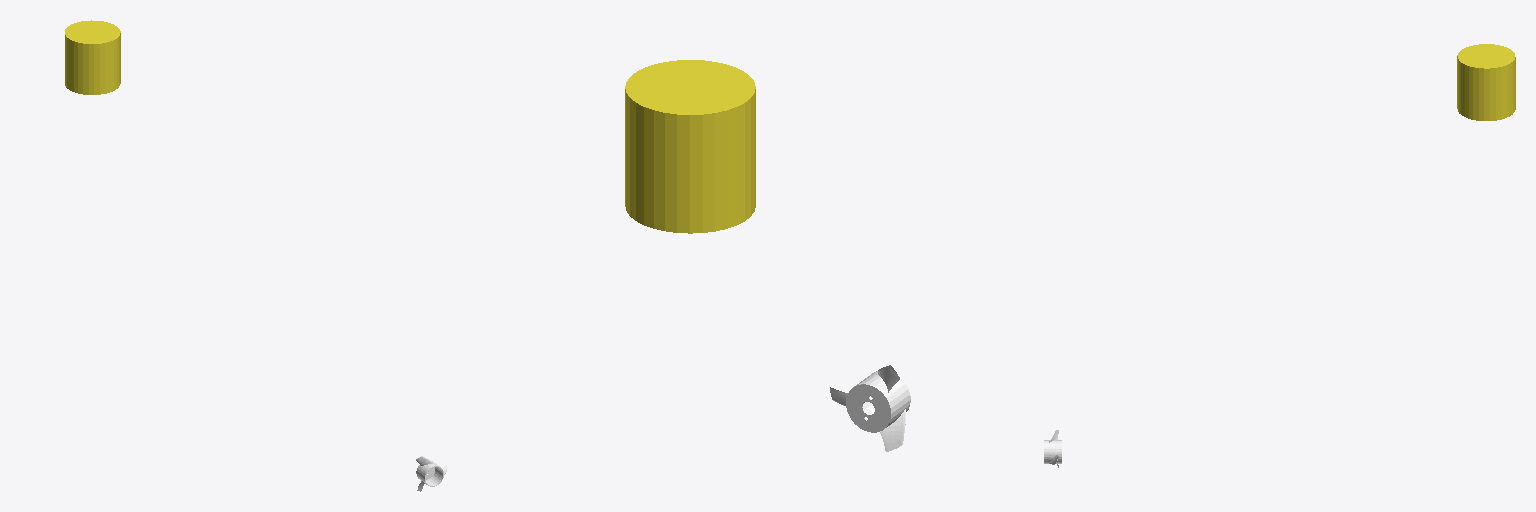
URDF robot description (ASV_CATAM_URDF_ASSEMBLY):
<?xml version="1.0" encoding="utf-8"?>
<!-- This URDF was automatically created by SolidWorks to URDF Exporter! Originally created by [author] ([email redacted]) 
     Commit Version: 1.5.1-0-g916b5db  Build Version: 1.5.7152.31018
     For more information, please see http://wiki.ros.org/sw_urdf_exporter -->
<robot
  name="ASV_CATAM_URDF_ASSEMBLY">
  <link
    name="base_link">
    <inertial>
      <origin
        xyz="0.0080176 -0.14033 0.027517"
        rpy="0 0 0" />
      <mass
        value="10" />
      <inertia
        ixx="3.3342"
        ixy="-7.2171E-06"
        ixz="1.1079E-05"
        iyy="3.4591"
        iyz="-0.044946"
        izz="0.43184" />
    </inertial>
    <visual>
      <origin
        xyz="0 0 0"
        rpy="0 0 0" />
      <geometry>
        <mesh
          filename="package://ASV_CATAM_URDF_ASSEMBLY/meshes/base_link.STL" />
      </geometry>
      <material
        name="">
        <color
          rgba="0.79216 0.81961 0.93333 1" />
      </material>
    </visual>
    <collision>
      <origin
        xyz="0 0 0"
        rpy="0 0 0" />
      <geometry>
        <mesh
          filename="package://ASV_CATAM_URDF_ASSEMBLY/meshes/base_link.STL" />
      </geometry>
    </collision>
  </link>
  <link
    name="Link1">
    <inertial>
      <origin
        xyz="2.6849E-08 -3.5182E-08 0.012703"
        rpy="0 0 0" />
      <mass
        value="1" />
      <inertia
        ixx="2.6268E-06"
        ixy="-2.2127E-10"
        ixz="-2.2266E-11"
        iyy="2.6282E-06"
        iyz="-4.5232E-11"
        izz="3.8273E-06" />
    </inertial>
    <visual>
      <origin
        xyz="0 0 0"
        rpy="0 0 0" />
      <geometry>
        <mesh
          filename="package://ASV_CATAM_URDF_ASSEMBLY/meshes/Link1.STL" />
      </geometry>
      <material
        name="">
        <color
          rgba="0.25098 0.25098 0.25098 1" />
      </material>
    </visual>
    <collision>
      <origin
        xyz="0 0 0"
        rpy="0 0 0" />
      <geometry>
        <mesh
          filename="package://ASV_CATAM_URDF_ASSEMBLY/meshes/Link1.STL" />
      </geometry>
    </collision>
  </link>
  <joint
    name="JOINT1"
    type="continuous">
    <origin
      xyz="-0.25698 -0.44878 -0.31701"
      rpy="1.58 0 1.56" />
    <parent
      link="base_link" />
    <child
      link="Link1" />
    <axis
      xyz="0 0 1" />
  </joint>
  <link
    name="Link2">
    <inertial>
      <origin
        xyz="0 0 0"
        rpy="0 0 0" />
      <mass
        value="1" />
      <inertia
        ixx="0"
        ixy="0"
        ixz="0"
        iyy="0"
        iyz="0"
        izz="0" />
    </inertial>
    <visual>
      <origin
        xyz="0 0 0"
        rpy="0 0 0" />
      <geometry>
        <mesh
          filename="package://ASV_CATAM_URDF_ASSEMBLY/meshes/Link2.STL" />
      </geometry>
      <material
        name="">
        <color
          rgba="1 1 1 1" />
      </material>
    </visual>
    <collision>
      <origin
        xyz="0 0 0"
        rpy="0 0 0" />
      <geometry>
        <mesh
          filename="package://ASV_CATAM_URDF_ASSEMBLY/meshes/Link2.STL" />
      </geometry>
    </collision>
  </link>
  <joint
    name="JOINT2"
    type="continuous">
    <origin
      xyz="0.27302 -0.44878 -0.31701"
      rpy="1.5708 0 0" />
    <parent
      link="base_link" />
    <child
      link="Link2" />
    <axis
      xyz="0 0 1" />
  </joint>
  <link name="sensor_laser">
    <inertial>
      <origin xyz="0 0 0" rpy="0 0 0" />
      <mass value="1" />
      <!-- RANDOM INERTIA BELOW -->
      <inertia ixx="0.02" ixy="0" ixz="0" iyy="0.02" iyz="0" izz="0.02"/>
    </inertial>

    <visual>
      <origin xyz="0 0.01 0.08" rpy="0 0 0" />
      <geometry>
        <cylinder radius="0.05" length="0.1"/>
      </geometry>
      <material name="white" />
    </visual>

    <collision>
      <origin xyz="-0.16 0 0.15" rpy="0 0 0"/>
      <geometry>
        <cylinder radius="0.05" length="0.1"/>
      </geometry>
    </collision>
  </link>

  <joint name="joint_sensor_laser" type="fixed">
    <origin xyz="0.019 0.28 0.18" rpy="0 0 1.5"/>
    <parent link="base_link"/>
    <child link="sensor_laser"/>
  </joint>

  <gazebo>
  <plugin name="differential_drive_controller" filename="libgazebo_ros_diff_drive.so">

    <!-- Plugin update rate in Hz -->
    <updateRate>10</updateRate>

    <!-- Name of left joint, defaults to left_joint -->
    <leftJoint>JOINT1</leftJoint>

    <!-- Name of right joint, defaults to right_joint -->
    <rightJoint>JOINT2</rightJoint>

    <!-- The distance from the center of one wheel to the other, in meters, defaults to 0.34 m -->
    <wheelSeparation>0.5380</wheelSeparation>

    <!-- Diameter of the wheels, in meters, defaults to 0.15 m -->
    <wheelDiameter>0.2410</wheelDiameter>

    <!-- Wheel acceleration, in rad/s^2, defaults to 0.0 rad/s^2 -->
    <wheelAcceleration>1.0</wheelAcceleration>

    <!-- Maximum torque which the wheels can produce, in Nm, defaults to 5 Nm -->
    <wheelTorque>20</wheelTorque>

    <!-- Topic to receive geometry_msgs/Twist message commands, defaults to cmd_vel -->
    <commandTopic>cmd_vel</commandTopic>

    <!-- Topic to publish nav_msgs/Odometry messages, defaults to odom -->
    <odometryTopic>odom</odometryTopic>

    <!-- Odometry frame, defaults to odom -->
    <odometryFrame>odom</odometryFrame>

    <!-- Robot frame to calculate odometry from, defaults to base_footprint -->
    <robotBaseFrame>base_link</robotBaseFrame>

    <!-- Odometry source, 0 for ENCODER, 1 for WORLD, defaults to WORLD -->
    <odometrySource>1</odometrySource>

    <!-- Set to true to publish transforms for the wheel links, defaults to false -->
    <publishWheelTF>true</publishWheelTF>

    <!-- Set to true to publish transforms for the odometry, defaults to true -->
    <publishOdom>true</publishOdom>

    <!-- Set to true to publish sensor_msgs/JointState on /joint_states for the wheel joints, defaults to false -->
    <publishWheelJointState>true</publishWheelJointState>

    <!-- Set to true to swap right and left wheels, defaults to true -->
    <legacyMode>false</legacyMode>
  </plugin>
</gazebo>

<gazebo>
    <plugin name="object_controller" filename="libgazebo_ros_planar_move.so">
      <commandTopic>cmd_vel</commandTopic>
      <odometryTopic>odom</odometryTopic>
      <odometryFrame>odom</odometryFrame>
      <odometryRate>20.0</odometryRate>
      <robotBaseFrame>base_link</robotBaseFrame>
    </plugin>
  </gazebo>
<gazebo reference="sensor_laser">
    <sensor type="ray" name="head_hokuyo_sensor">
      <pose>0 0 0 0 0 0</pose>
      <visualize>true</visualize>
      <update_rate>20</update_rate>
      <ray>
        <scan>
          <horizontal>
            <samples>720</samples>
            <resolution>1</resolution>
            <min_angle>-2.5</min_angle>
            <max_angle>2.5</max_angle>
          </horizontal>
        </scan>
        <range>
          <min>0.10</min>
          <max>10.0</max>
          <resolution>0.01</resolution>
        </range>
        <noise>
          <type>gaussian</type>
          <mean>0.0</mean>
          <stddev>0.01</stddev>
        </noise>
      </ray>
      <plugin name="gazebo_ros_head_hokuyo_controller" filename="libgazebo_ros_laser.so">
        <topicName>/m2wr/laser/scan</topicName>
        <frameName>sensor_laser</frameName>
      </plugin>
    </sensor>
  </gazebo>

</robot>

--- What the picture shows (computed from the rendered views, not written in the file) ---
Views: 3 orthographic renders of the robot side by side, from view 1: azimuth 30°, elevation 25°; view 2: azimuth 150°, elevation 25°; view 3: azimuth 270°, elevation 25°.
Robot: ASV_CATAM_URDF_ASSEMBLY — 4 links, 3 joints (2 continuous, 1 fixed); root link base_link; default pose: every joint at zero.
Links seen in each view (by area): view 1: sensor_laser, Link2; view 2: sensor_laser, Link2; view 3: sensor_laser.
Link boxes in pixels (left/top/right/bottom): sensor_laser: left=65, top=20, right=120, bottom=94; Link2: left=416, top=456, right=446, bottom=491; sensor_laser: left=625, top=60, right=755, bottom=233; Link2: left=830, top=365, right=910, bottom=451; sensor_laser: left=1457, top=44, right=1515, bottom=120.
Size in the robot's own frame: 0.352 by 0.8094 by 0.6631 metres.
Meshes: 3 distinct files referenced, 1 mesh visuals loaded (1 binary STL); not drawn: 2 (reference not matched to a file when rendering).
